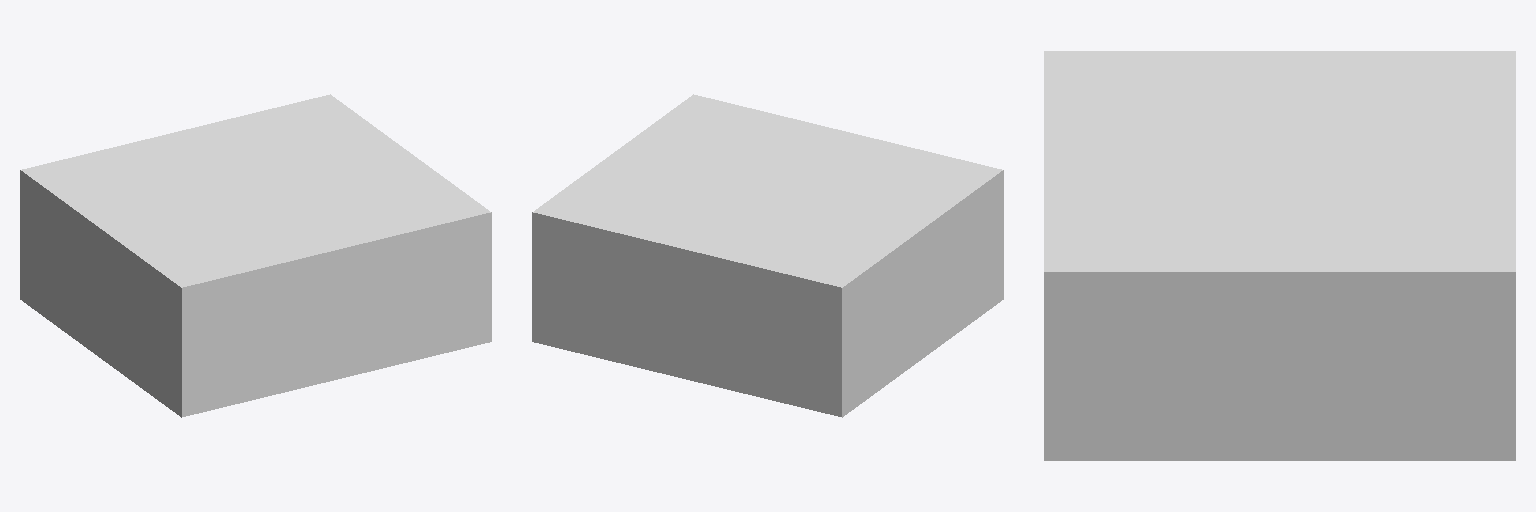
URDF robot description (table):
<?xml version="1.0"?>
<robot name="table">
  <link name="base_link">
    <contact>
      <rolling_friction value="0.001"/>
    </contact>
    <inertial>
      <origin xyz="1.65 0.75 0.2" rpy="0 0 0" />
      <mass value=".0"/>
      <inertia ixx="1" ixy="0" ixz="0" iyy="1" iyz="0" izz="1"/>
    </inertial>
    <visual>
      <origin xyz="1.65 0.75 0.2" rpy="0 0 0" />
      <geometry>
        <box size="1.0 0.9 0.4" />
      </geometry>
      <material name="table_mat">
        <color rgba="0.93 0.93 0.93 1" />
      </material>
    </visual>
    <collision>
      <origin xyz="1.65 0.75 0.2" rpy="0 0 0" />
      <geometry>
        <box size="1.0 0.9 0.4" />
      </geometry>
    </collision>
   </link>
</robot>

--- What the picture shows (computed from the rendered views, not written in the file) ---
Views: 3 orthographic renders of the robot side by side, from view 1: azimuth 30°, elevation 25°; view 2: azimuth 150°, elevation 25°; view 3: azimuth 270°, elevation 25°.
Robot: table — 1 links, 0 joints (none); root link base_link; default pose: every joint at zero.
Visible links, largest first — view 1: base_link; view 2: base_link; view 3: base_link.
Link boxes in pixels (x1,y1,x2,y2): base_link: (20, 94, 491, 417); base_link: (532, 94, 1003, 417); base_link: (1044, 51, 1515, 460).
Bounding box of the posed robot: 1 × 0.9 × 0.4 m (x, y, z).
Geometry: primitives only (box / cylinder / sphere), no mesh files.